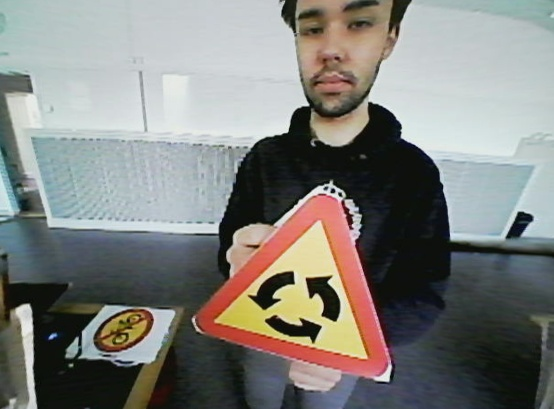roundabout_warning: (191, 190, 398, 388)
